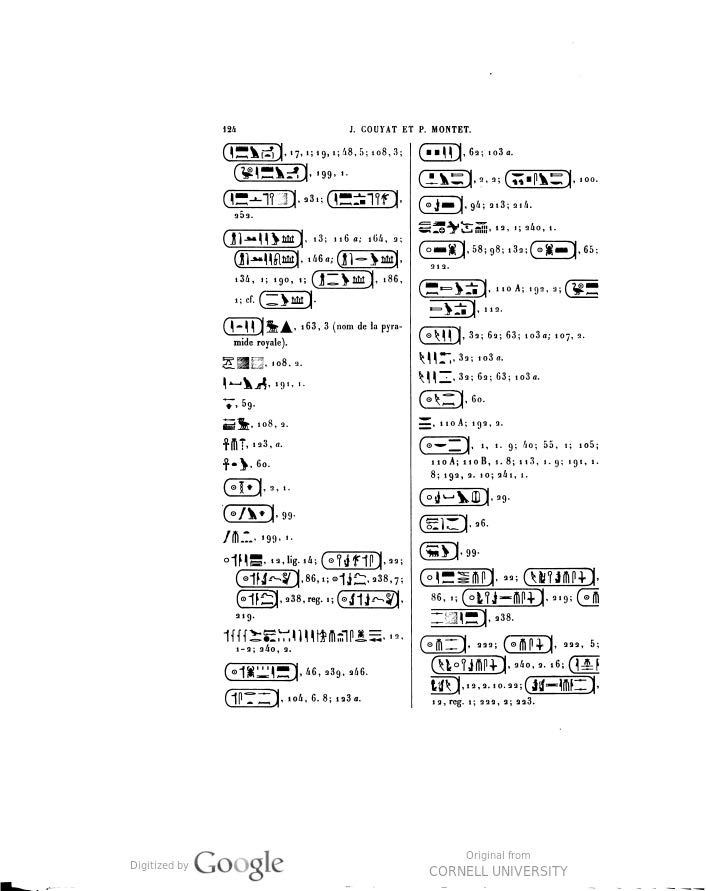circle: (410, 474, 501, 510), (520, 669, 607, 705), (321, 183, 403, 219), (220, 655, 309, 687), (211, 183, 308, 212), (316, 542, 394, 578), (416, 225, 474, 273), (331, 584, 408, 620), (499, 161, 578, 196), (417, 428, 484, 465), (230, 559, 305, 592), (212, 499, 291, 530), (212, 682, 291, 713), (216, 224, 310, 250), (420, 655, 520, 679), (417, 382, 481, 419), (306, 265, 379, 297), (513, 563, 601, 589), (525, 234, 585, 272), (492, 627, 567, 657), (225, 248, 305, 276), (454, 586, 556, 607), (331, 245, 406, 273), (418, 274, 489, 303), (418, 561, 497, 587), (417, 295, 485, 325), (422, 607, 500, 632), (218, 138, 299, 162), (218, 307, 275, 341), (416, 667, 475, 699), (413, 511, 480, 539), (227, 584, 293, 611), (234, 162, 314, 184), (418, 135, 471, 168), (416, 164, 478, 191), (553, 273, 606, 304), (419, 192, 470, 223), (412, 323, 480, 346), (416, 534, 465, 565), (414, 631, 477, 655), (222, 472, 275, 499), (254, 289, 320, 310), (569, 584, 614, 611), (565, 649, 607, 677)
